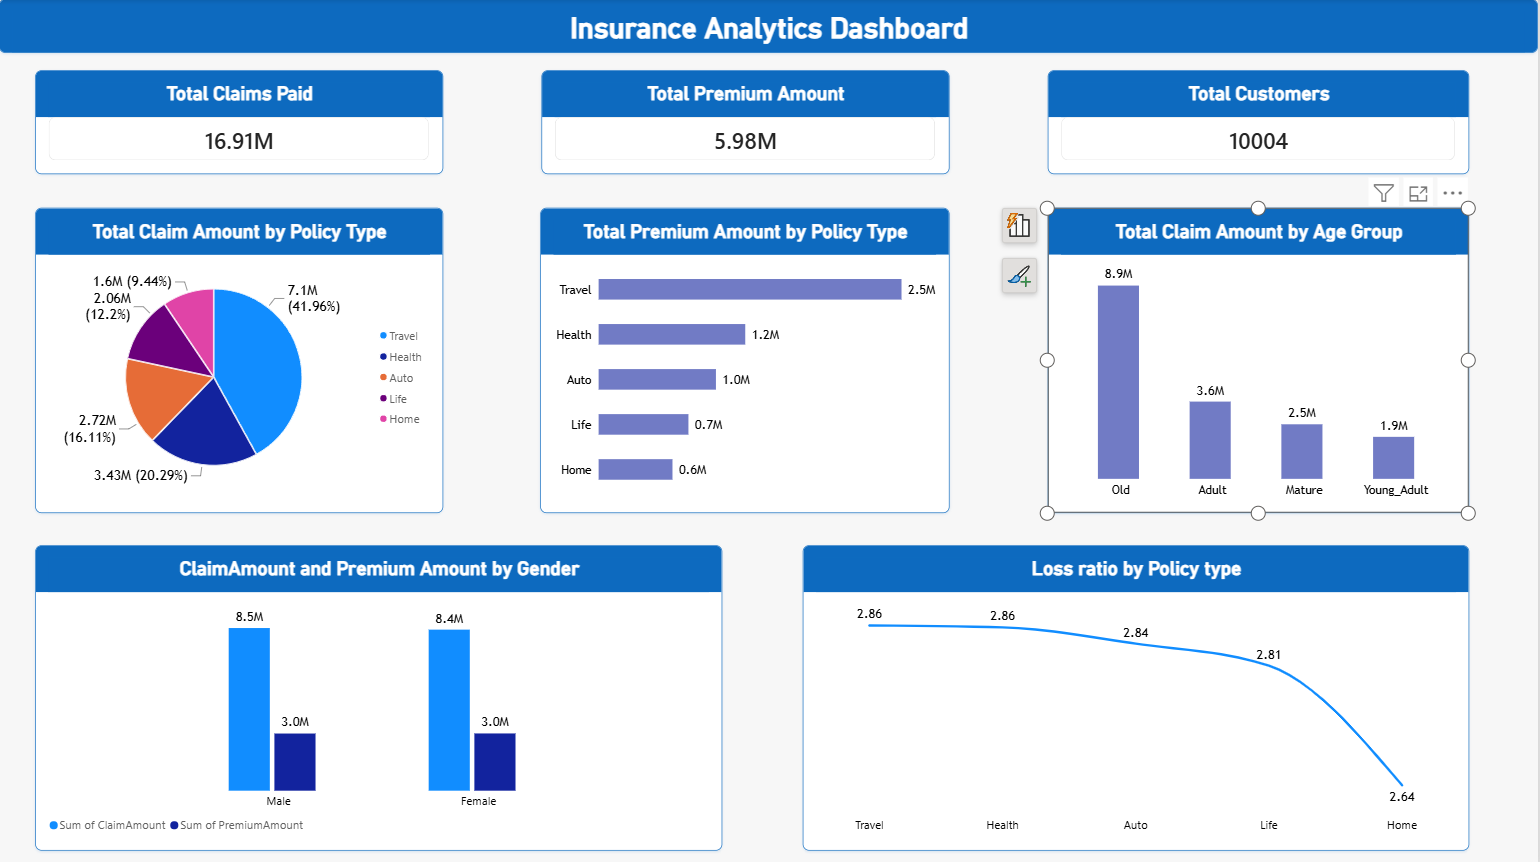

This screenshot's page, from the dashboard's own definition file:
{"tool":"powerbi","page":{"name":"Page 1","canvas":[1920,1080],"ordinal":0},"visuals":[{"type":"textbox","title":"Insurance Analytics Dashboard","box":[0,0,1919.6,67.1],"z":0},{"type":"pieChart","title":"Total Claim Amount by Policy Type","fields":{"Category":["InsuranceData.PolicyType"],"Y":["Sum(InsuranceData.ClaimAmount)"]},"box":[45.4,259.7,508.6,380.9],"z":1000},{"type":"cardVisual","title":"Total Claims Paid","fields":{"Data":["Measures Table.Total Claim Amount"]},"box":[45.4,88.7,508.6,129.8],"z":2000},{"type":"cardVisual","title":"Total Premium Amount","fields":{"Data":["Measures Table.Premium_Amount"]},"box":[676.3,88.7,508.6,129.8],"z":3000},{"type":"cardVisual","title":"Total Customers","fields":{"Data":["Measures Table.Totao Customers"]},"box":[1307.1,88.7,525.9,129.8],"z":4000},{"type":"barChart","title":"Total Premium Amount by Policy Type","fields":{"Category":["InsuranceData.PolicyType"],"Y":["Sum(InsuranceData.PremiumAmount)"]},"box":[675.2,259.7,510.7,380.9],"z":5000},{"type":"columnChart","title":"Total Claim Amount by Age Group","fields":{"Category":["InsuranceData.Age_Group"],"Y":["Sum(InsuranceData.ClaimAmount)"]},"box":[1307.9,260.3,525.9,380.9],"z":6000},{"type":"clusteredColumnChart","title":"ClaimAmount and Premium Amount by Gender","fields":{"Category":["InsuranceData.Gender"],"Y":["Sum(InsuranceData.ClaimAmount)","Sum(InsuranceData.PremiumAmount)"]},"box":[45.4,681.7,857,380.9],"z":7000},{"type":"lineChart","title":"Loss ratio by Policy type","fields":{"Category":["InsuranceData.PolicyType"],"Y":["InsuranceData.Loss ratio"]},"box":[1002,681.7,831,380.9],"z":8000}]}

Visuals, with their boxes in screenshot pixels (x1, y1, x2, y2), scaled from the page's 1920x1080 canvas onto the 1540x862 screenshot:
"Insurance Analytics Dashboard" textbox: 0/0/1539/54
"Total Claim Amount by Policy Type" pieChart: 36/207/444/511
"Total Claims Paid" cardVisual: 36/71/444/174
"Total Premium Amount" cardVisual: 542/71/950/174
"Total Customers" cardVisual: 1048/71/1470/174
"Total Premium Amount by Policy Type" barChart: 542/207/951/511
"Total Claim Amount by Age Group" columnChart: 1049/208/1471/512
"ClaimAmount and Premium Amount by Gender" clusteredColumnChart: 36/544/724/848
"Loss ratio by Policy type" lineChart: 804/544/1470/848
